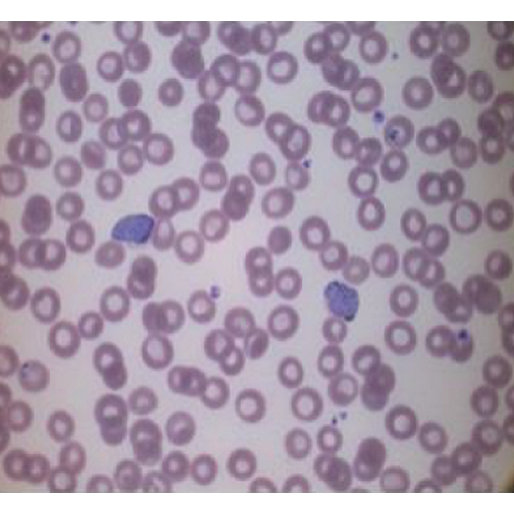Malaria: (323, 280, 360, 321), (111, 213, 155, 242), (457, 328, 470, 344), (372, 109, 383, 122)
